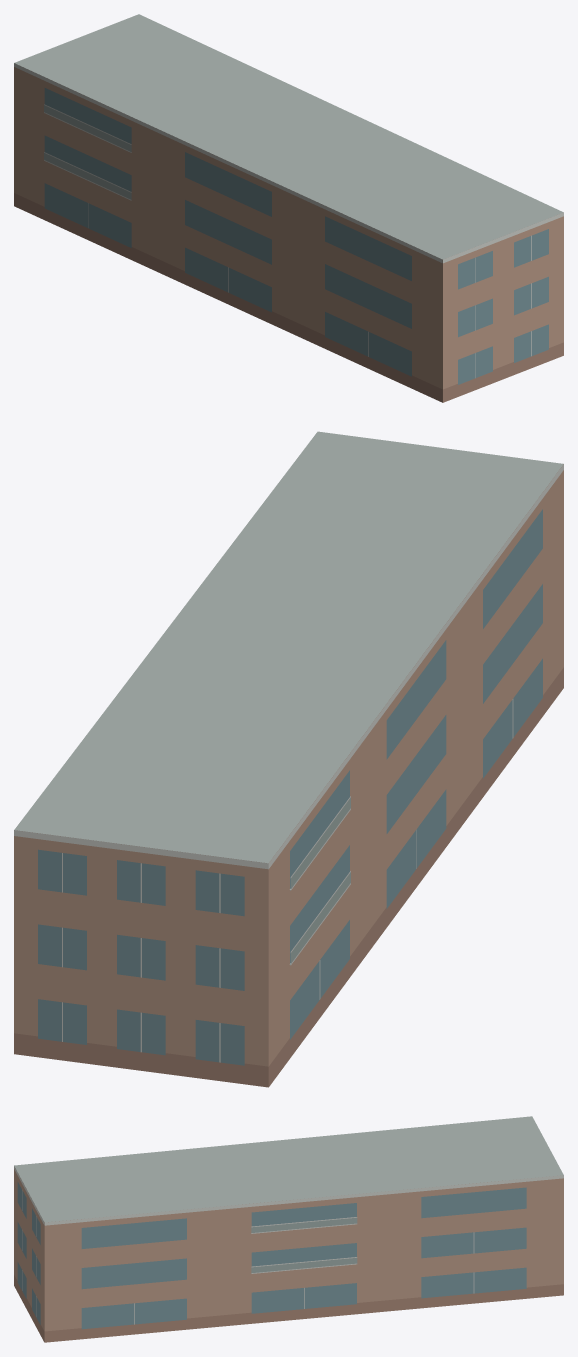
The model's file is survey-upis-32929088.glb.
3 renders of one model, top to bottom at view 1: azimuth 30°, elevation 25°; view 2: azimuth 150°, elevation 25°; view 3: azimuth 270°, elevation 25°, orthographic. The views are drawn at different scales.
Parts seen in each view (by area): view 1: survey-upis-32929088.tmp; view 2: survey-upis-32929088.tmp; view 3: survey-upis-32929088.tmp.
Boxes of the visible parts, box(x1,y1,x2,y2) form: survey-upis-32929088.tmp: box(14, 14, 563, 402); survey-upis-32929088.tmp: box(14, 431, 563, 1087); survey-upis-32929088.tmp: box(14, 1116, 563, 1342).
Size of the model in its own units: 17.35 by 9.15 by 37.95.
